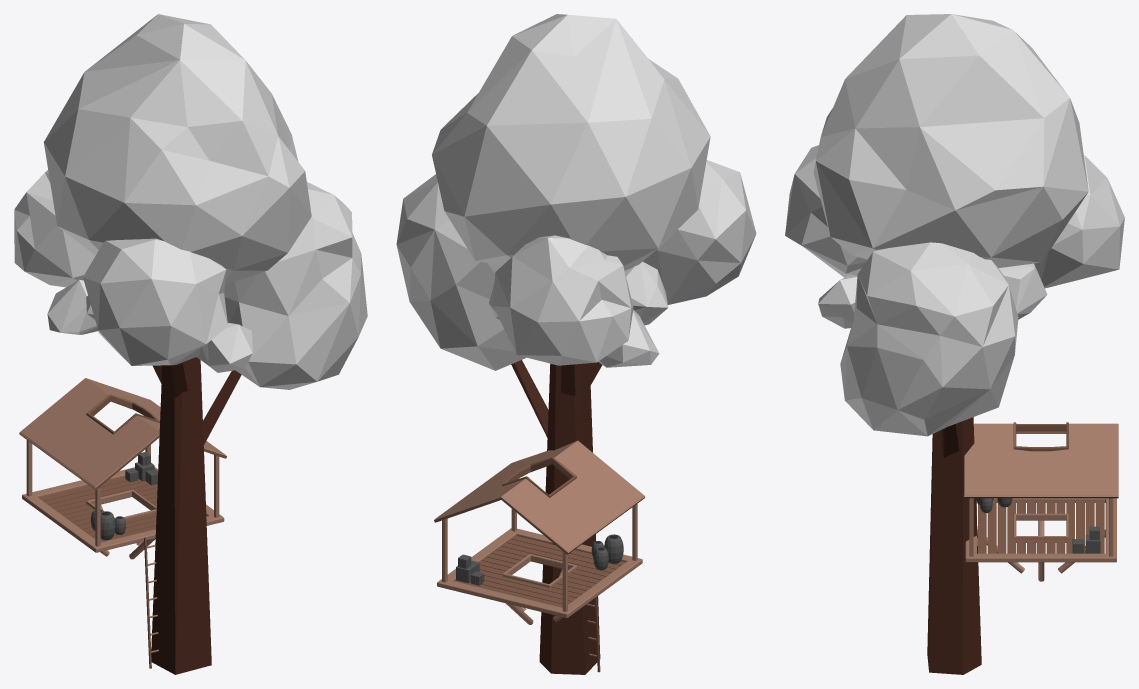
The model's file is air_alcove.fbx.
3 views of the same model, side by side, from view 1: azimuth 30°, elevation 25°; view 2: azimuth 150°, elevation 25°; view 3: azimuth 270°, elevation 25° (orthographic).
Visible parts, largest first — view 1: Tree, Air_alcove; view 2: Tree, Air_alcove; view 3: Tree, Air_alcove.
Boxes of the visible parts, box(x1,y1,x2,y2) form: Tree: box(14, 14, 367, 674); Air_alcove: box(19, 378, 226, 668); Tree: box(396, 14, 756, 674); Air_alcove: box(434, 440, 645, 672); Tree: box(785, 14, 1124, 674); Air_alcove: box(964, 422, 1118, 581).
Bounding box in the file's own units: 247 × 509 × 241.
